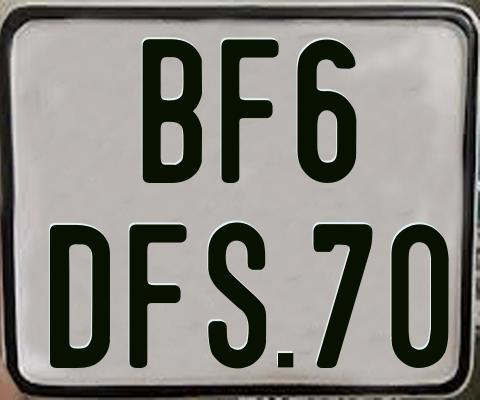0: (390, 222, 449, 366)
6: (294, 37, 357, 186)
7: (313, 221, 375, 366)
B: (140, 39, 202, 183)
D: (47, 224, 109, 369)
F: (219, 38, 282, 188), (129, 221, 190, 369)
S: (207, 222, 268, 373)
